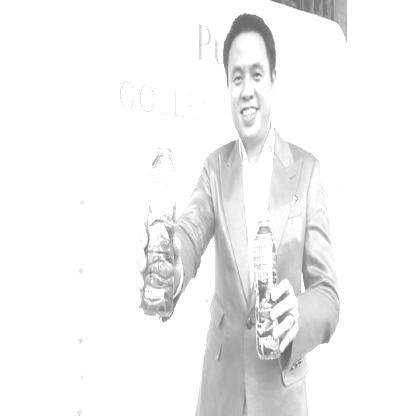bottle: (140, 130, 180, 314), (253, 210, 282, 361)
